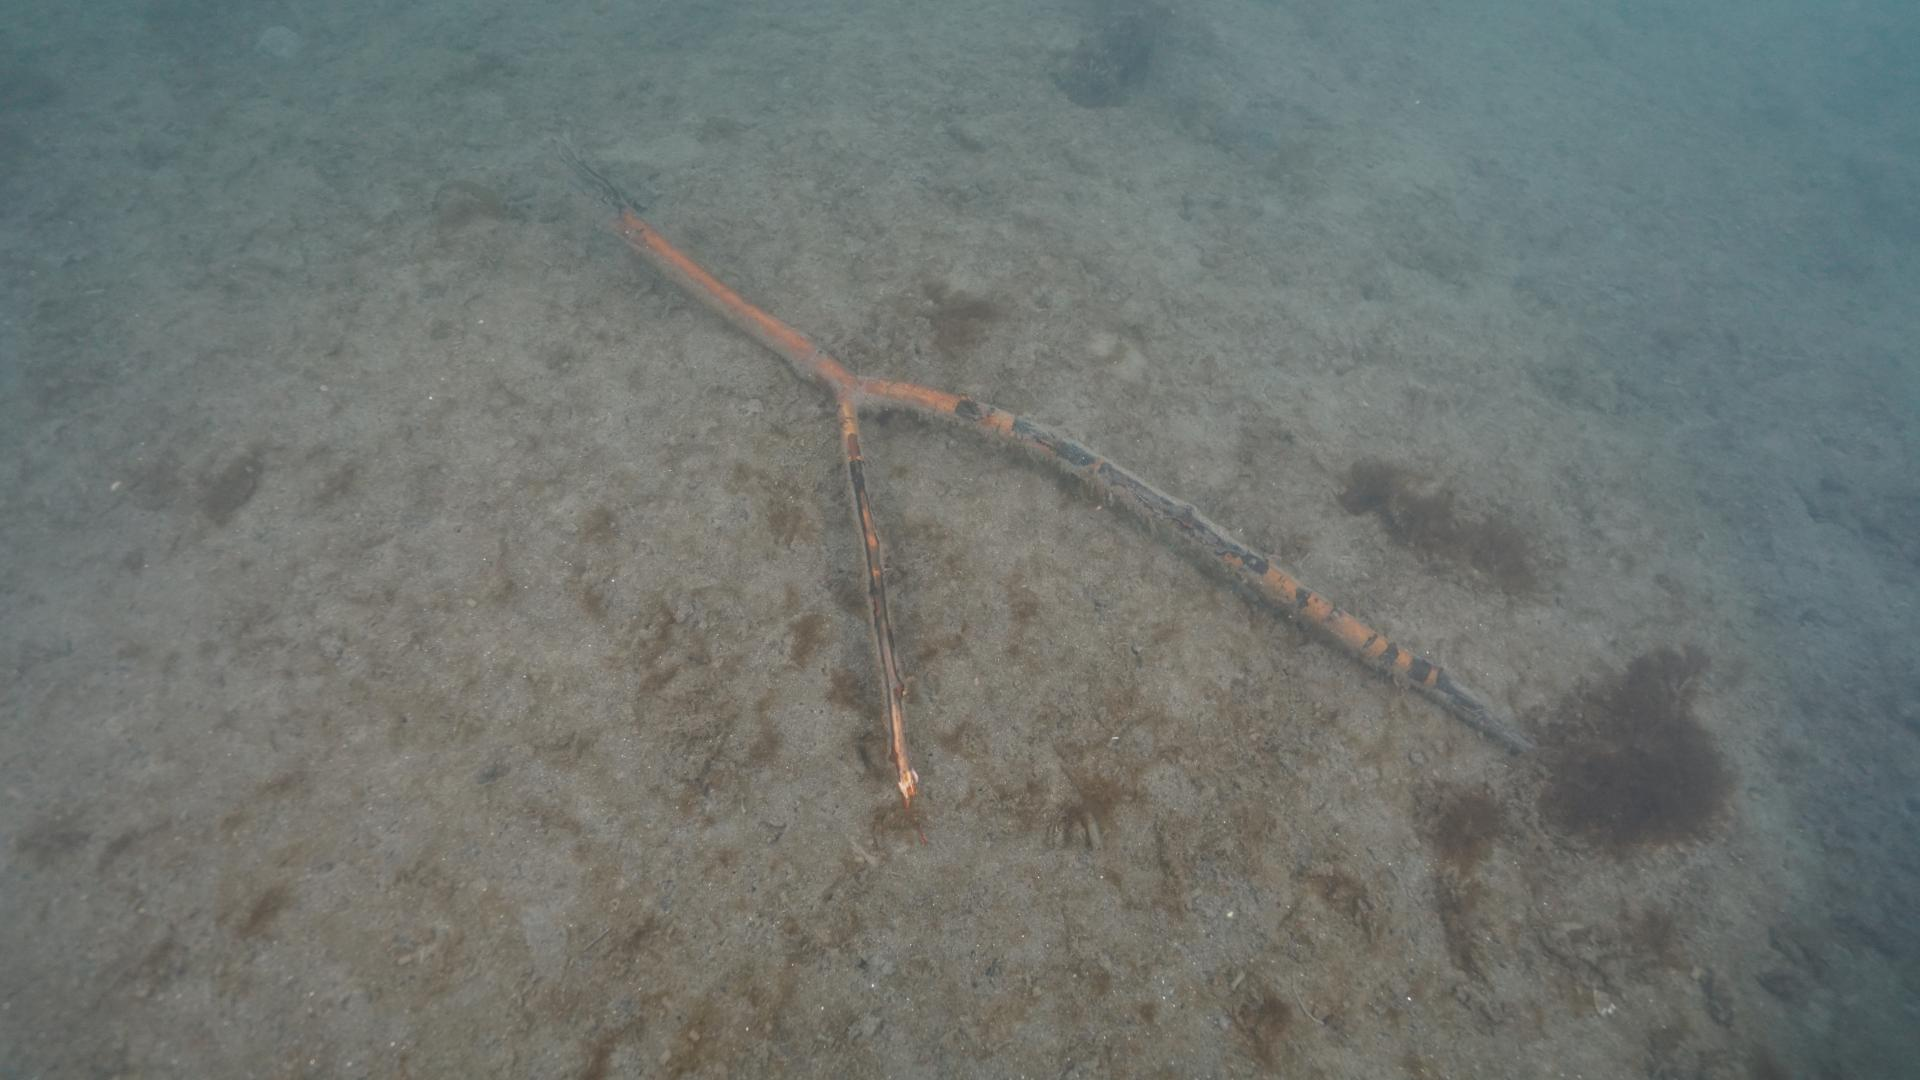wood: (615, 208, 1536, 799)
